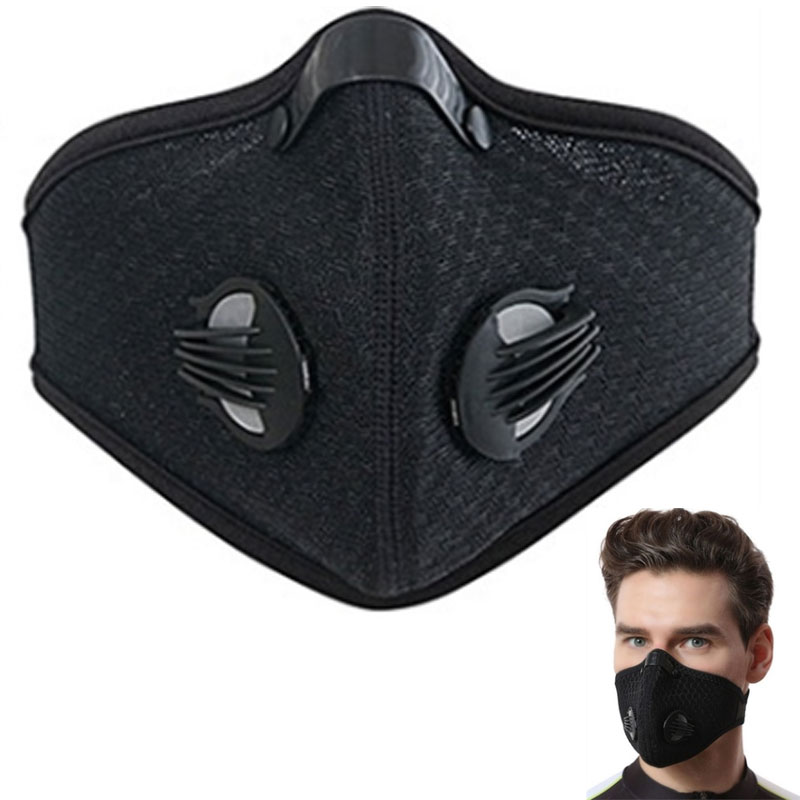Mask: (607, 565, 745, 770)
